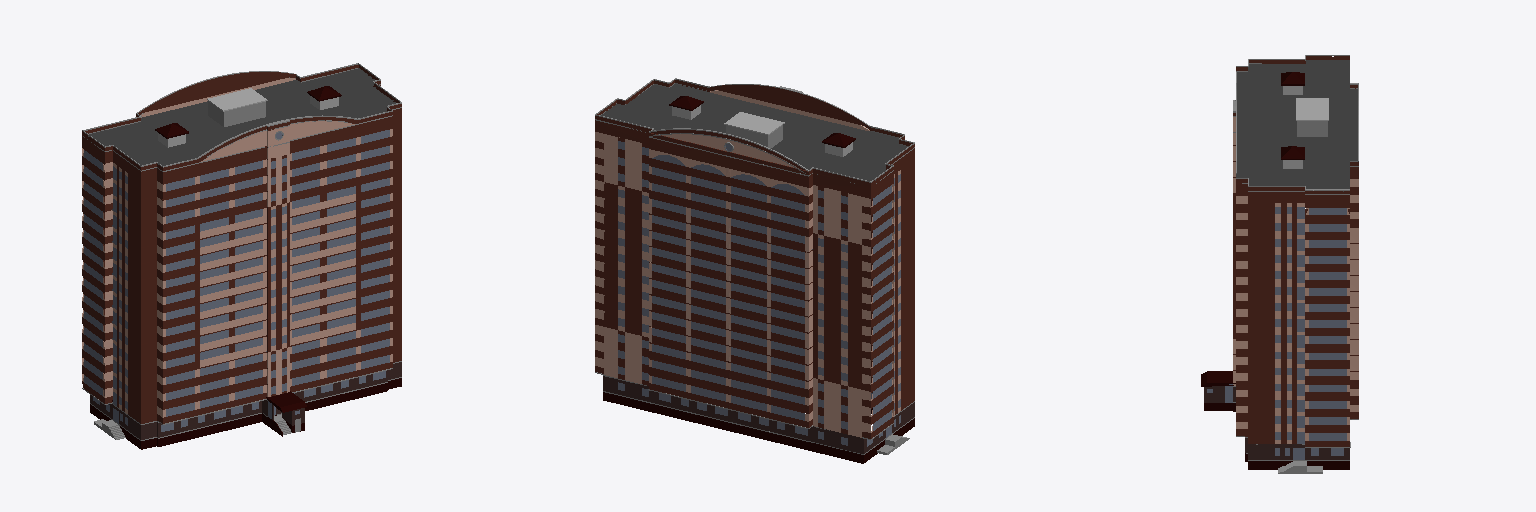
Rendered from building2.obj.
3 renders of one model, left to right at view 1: azimuth 30°, elevation 25°; view 2: azimuth 150°, elevation 25°; view 3: azimuth 270°, elevation 25°, orthographic.
Visible parts, largest first — view 1: Object06, Object08, Object09, Object13, Object11, Object10, Object12, building2; view 2: Object06, Object08, Object09, Object13, Object10, Object11, Object12, building2; view 3: Object06, Object13, Object08, Object09, Object10, Object11, Object12, building2.
Boxes of the visible parts, <box> form: Object06: <box>82,65,401,423</box>; Object08: <box>84,130,389,431</box>; Object09: <box>82,78,392,417</box>; Object13: <box>83,68,395,165</box>; Object11: <box>82,63,401,440</box>; Object10: <box>90,86,401,449</box>; Object12: <box>90,362,401,439</box>; building2: <box>158,88,338,147</box>; Object06: <box>595,80,914,438</box>; Object08: <box>618,141,900,446</box>; Object09: <box>595,90,900,437</box>; Object13: <box>601,84,907,180</box>; Object10: <box>603,96,914,463</box>; Object11: <box>595,78,914,454</box>; Object12: <box>603,376,914,453</box>; building2: <box>672,105,852,156</box>; Object06: <box>1233,56,1358,446</box>; Object13: <box>1236,60,1357,191</box>; Object08: <box>1207,207,1346,459</box>; Object09: <box>1233,117,1358,443</box>; Object10: <box>1201,72,1349,469</box>; Object11: <box>1233,55,1358,473</box>; Object12: <box>1204,386,1349,459</box>; building2: <box>1283,86,1328,168</box>.
Size of the model in its own units: 148 by 151 by 72.42.